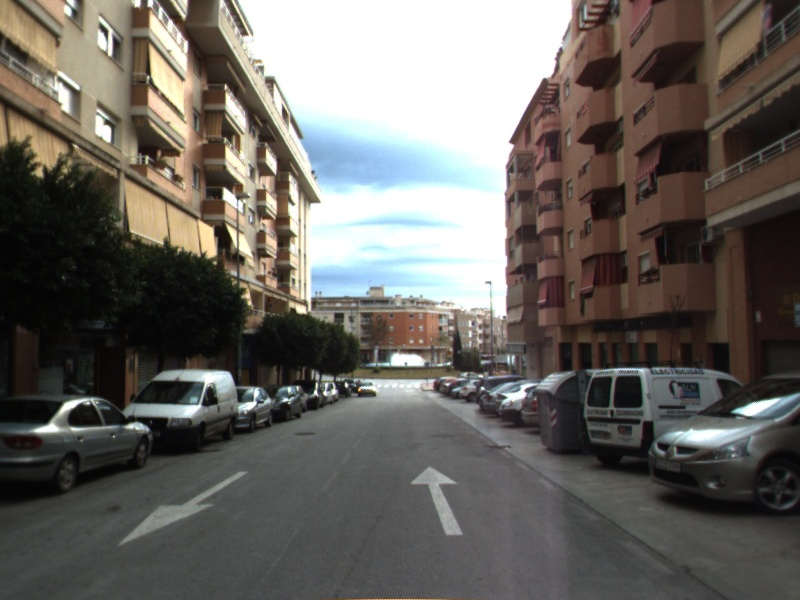STRAIGHT: (408, 464, 465, 537)
